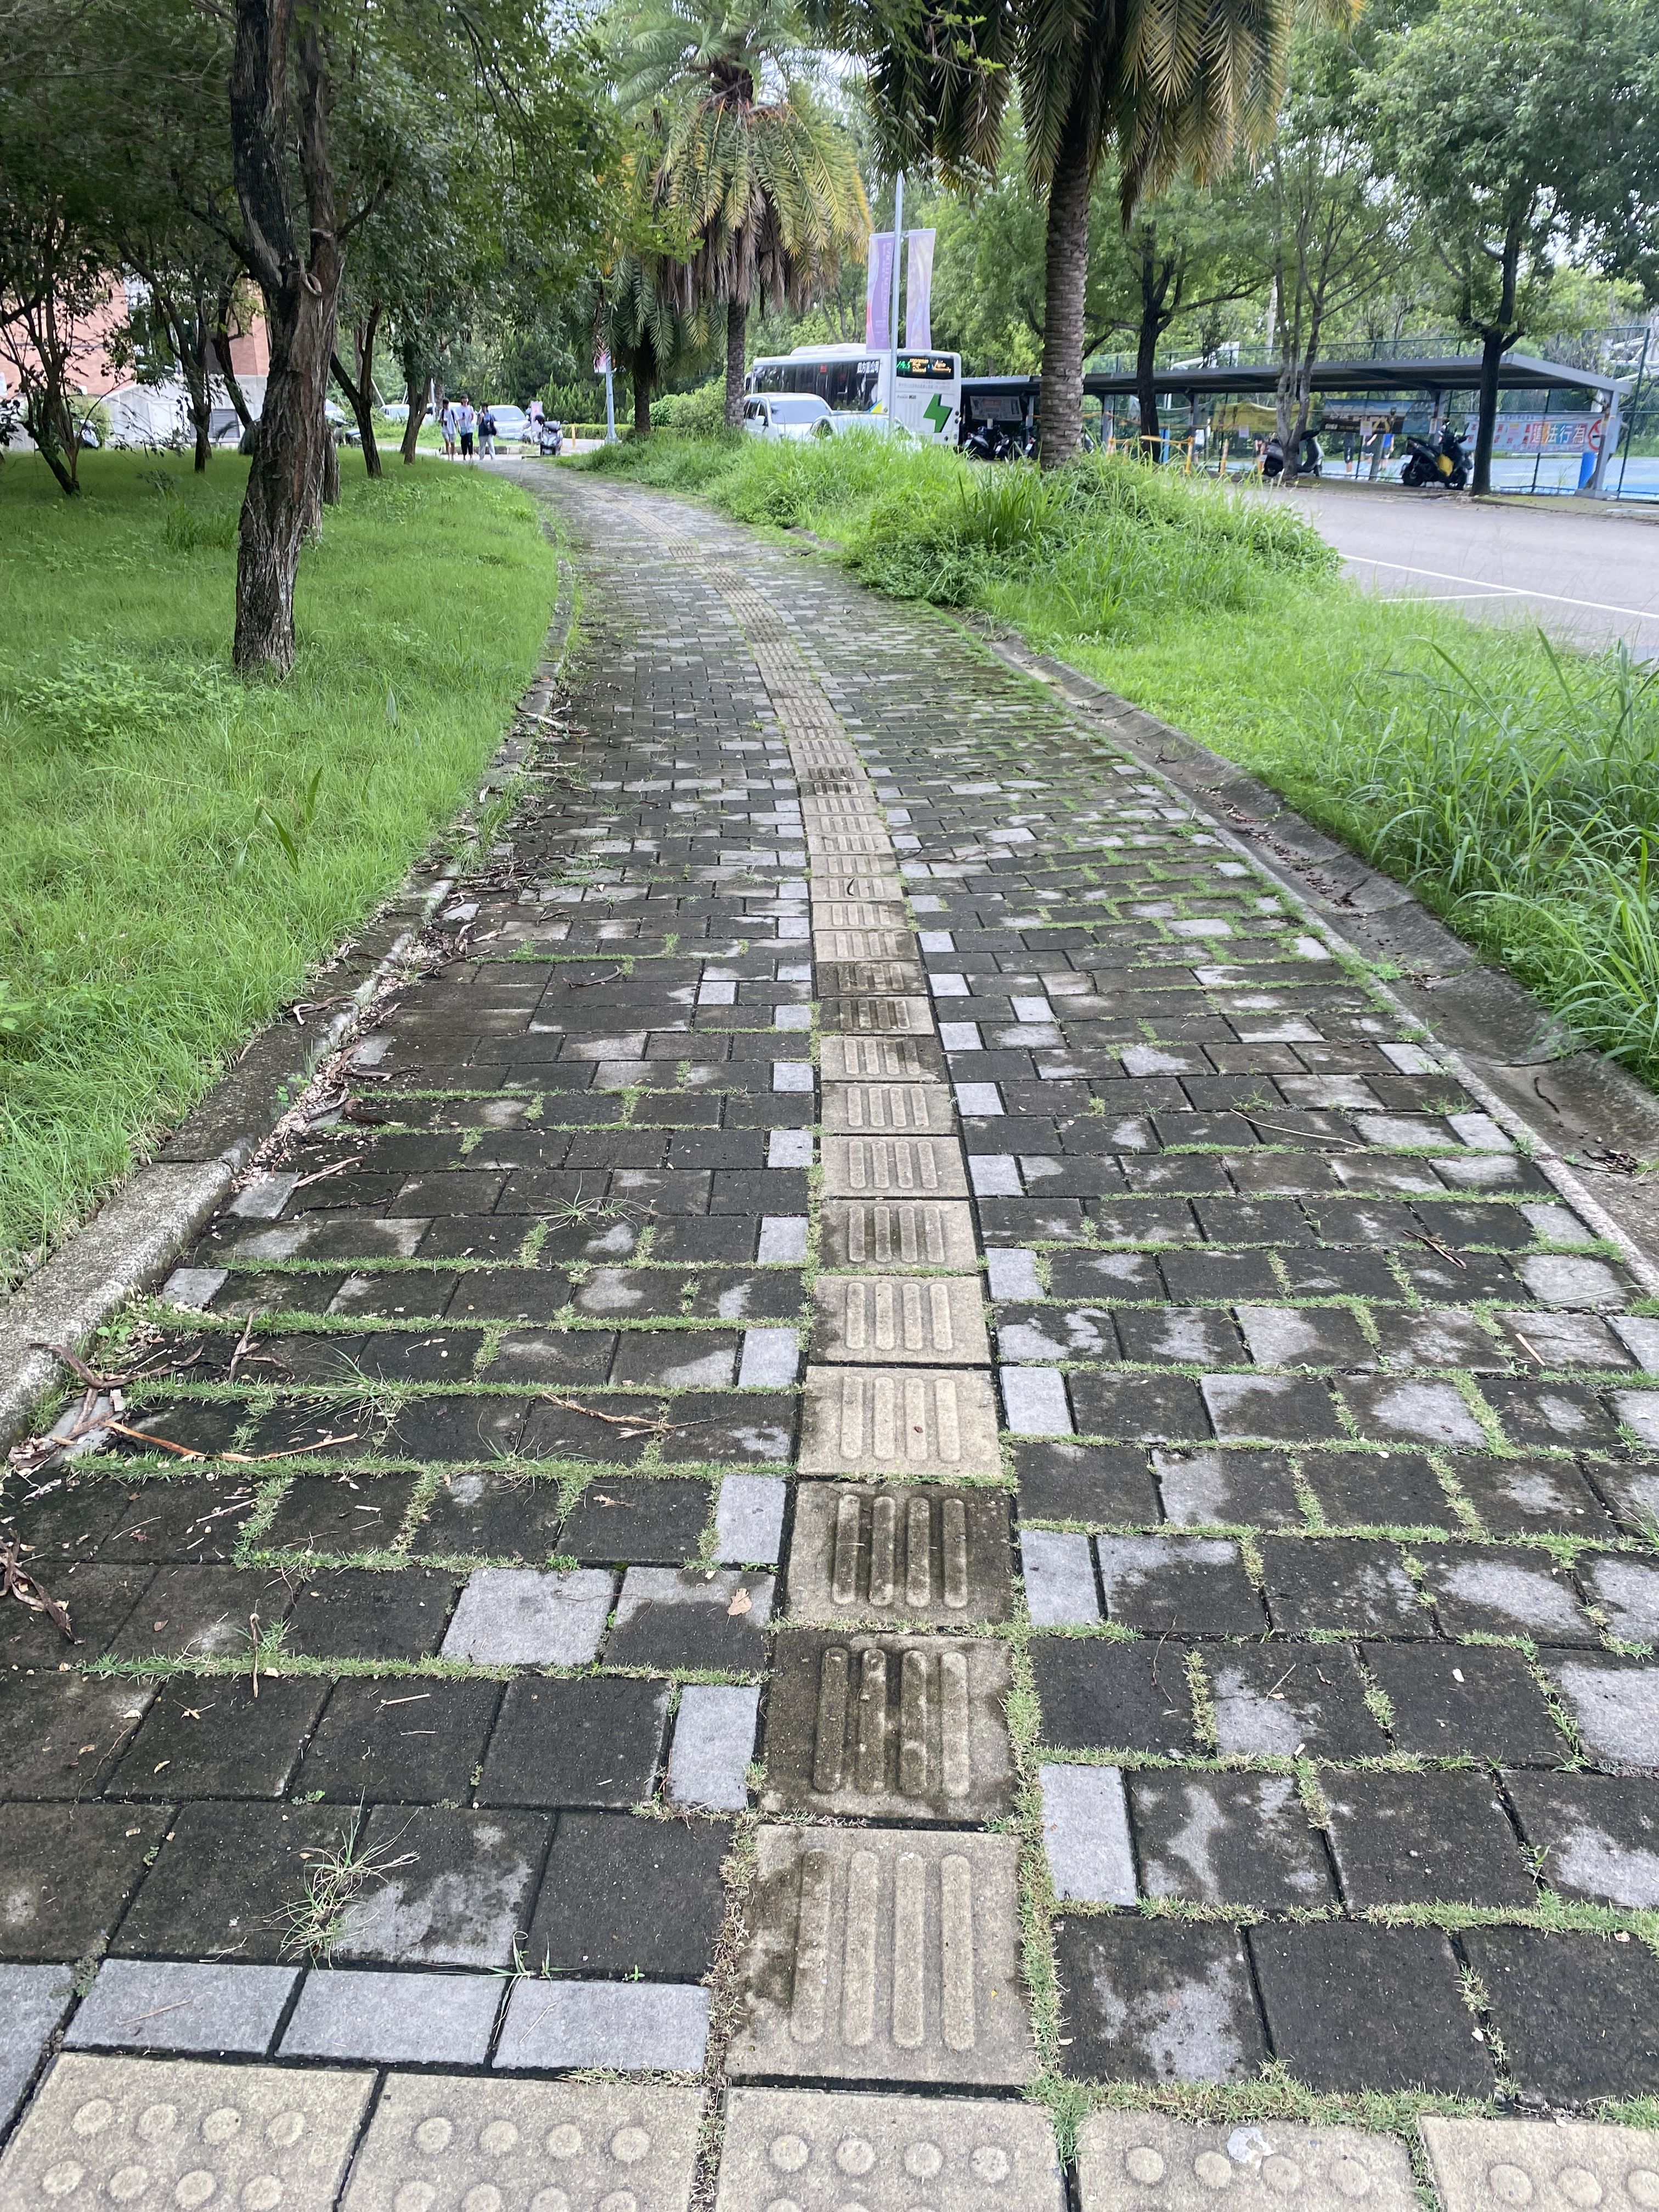sidewalk: (0, 415, 1659, 2210)
